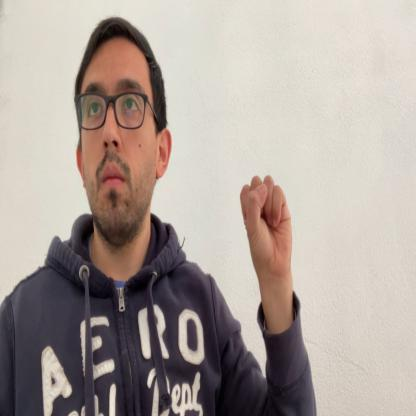S: (240, 173, 293, 274)
